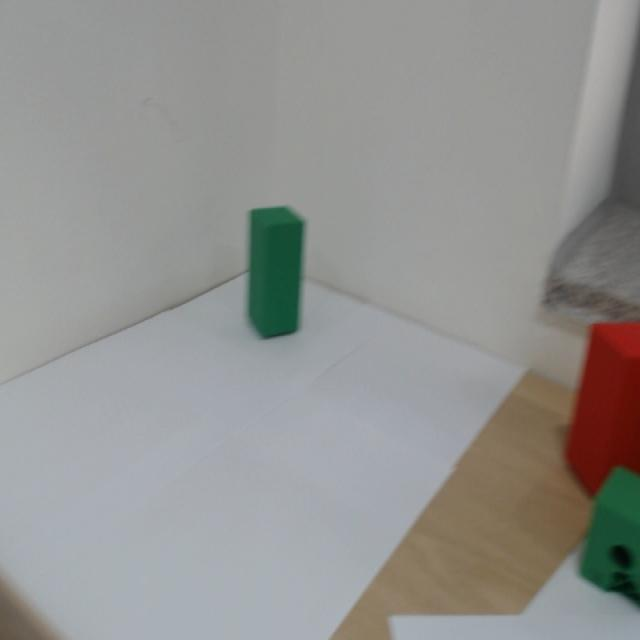cube: (213, 175, 322, 356)
